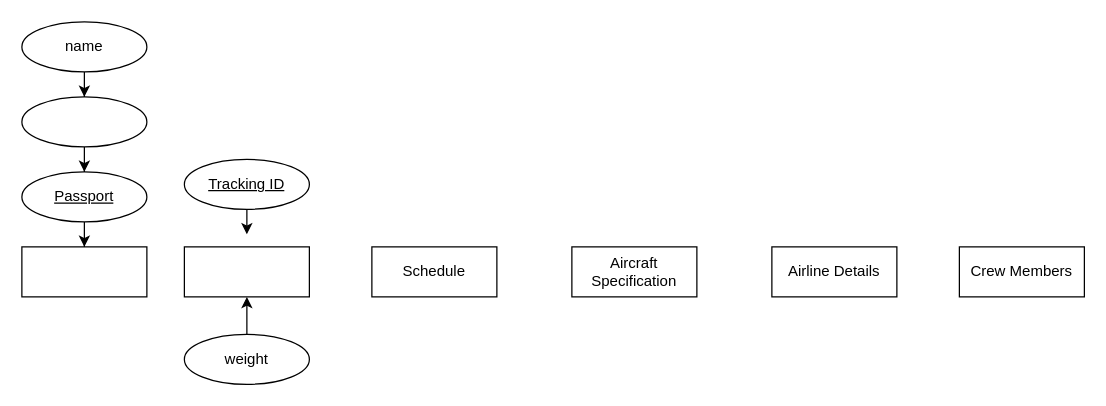
The diagram is 1106 pixels wide and 406 high, and some of its shapes have lost their labels. The shapes that lost their labels are listed below. From the top down, each one's box as (x1, y1, x2, y2) in pixels, then its label:
(21, 96, 147, 147): ID
(21, 246, 147, 297): Passenger
(183, 246, 309, 297): Cargo
